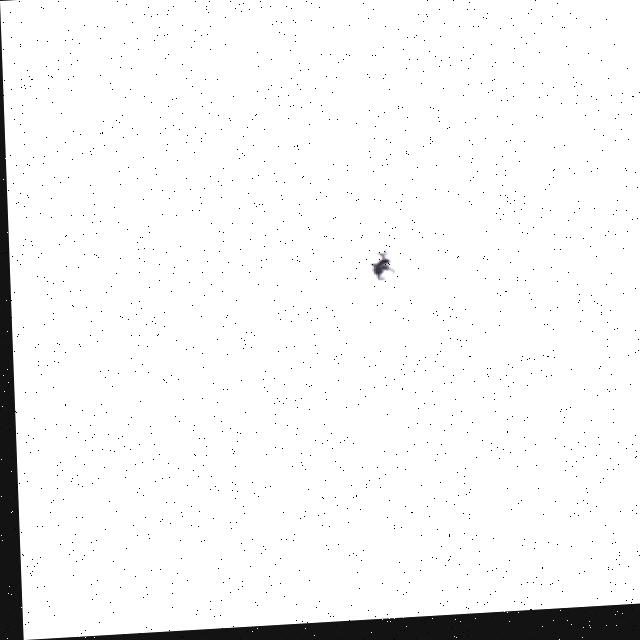drone: (362, 252, 395, 290)
